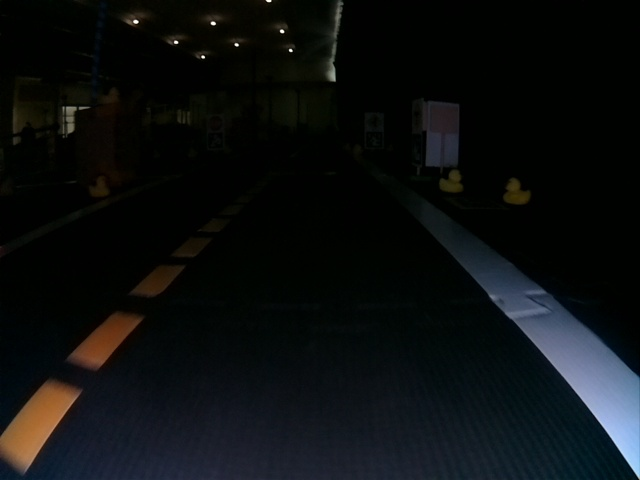Duckie: (501, 179, 530, 205), (438, 169, 465, 193), (96, 87, 120, 106), (91, 177, 110, 196)
